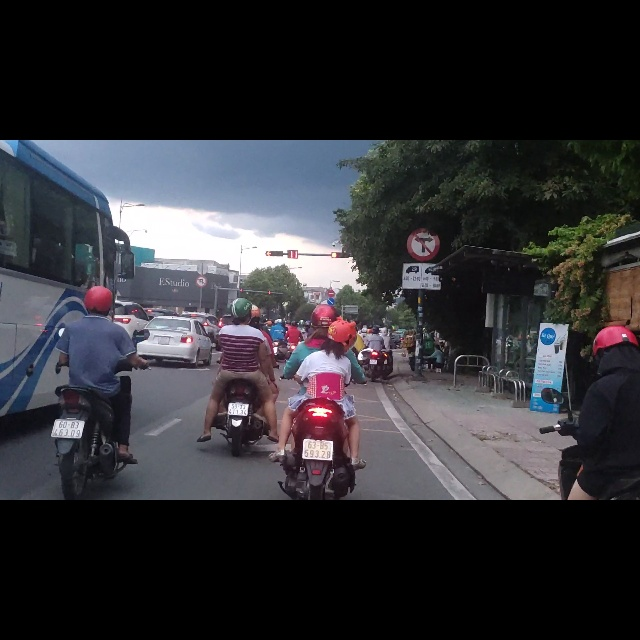bien_hieu_lenh: (400, 217, 442, 268), (406, 156, 440, 216), (195, 241, 207, 263), (327, 280, 335, 295), (327, 265, 335, 280)
